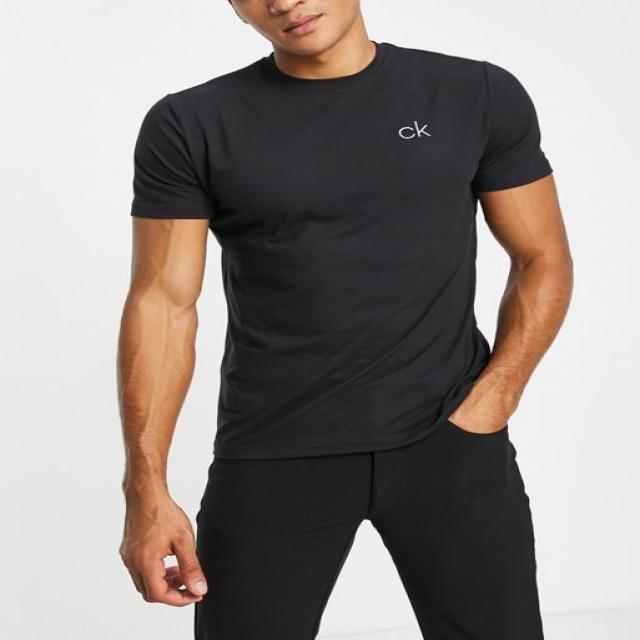tshirt: (127, 42, 554, 457)
